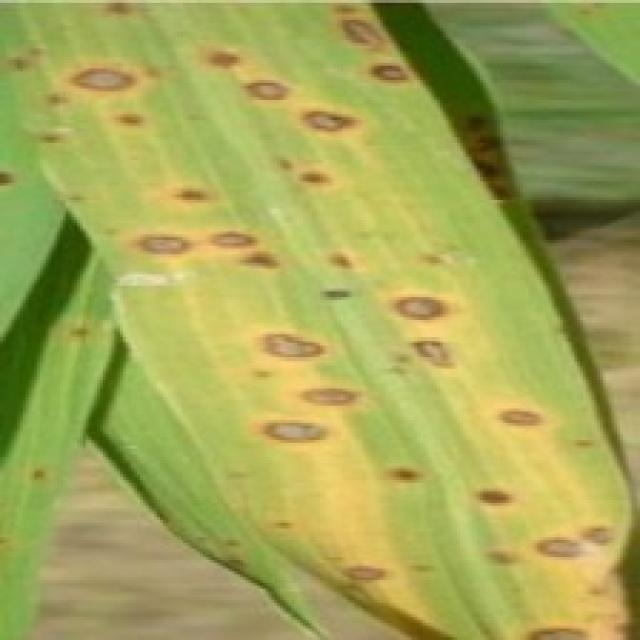Rice___Brown_Spot: (0, 1, 636, 637)
